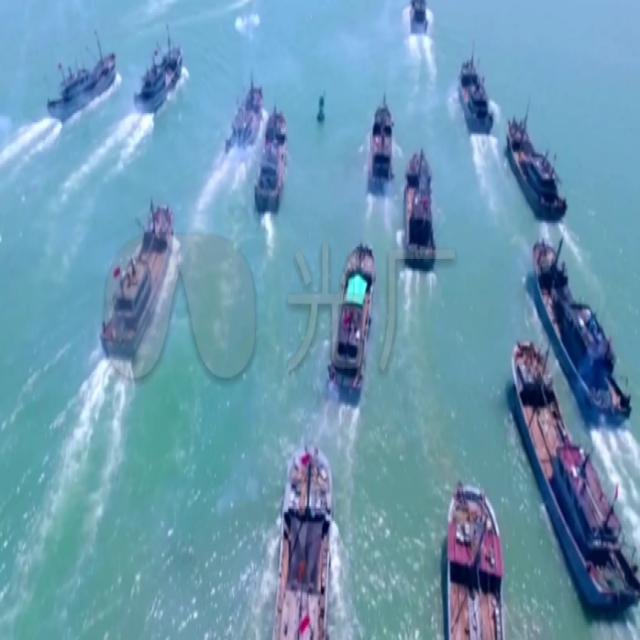fishing boat: (514, 336, 640, 618), (533, 238, 631, 427), (276, 439, 334, 640), (101, 204, 174, 362), (440, 475, 509, 640), (328, 234, 376, 388), (506, 114, 566, 223), (49, 30, 113, 116), (402, 145, 438, 269), (132, 21, 180, 113), (255, 102, 289, 211), (457, 60, 494, 133), (224, 74, 260, 148), (367, 98, 396, 180), (404, 0, 433, 41)
